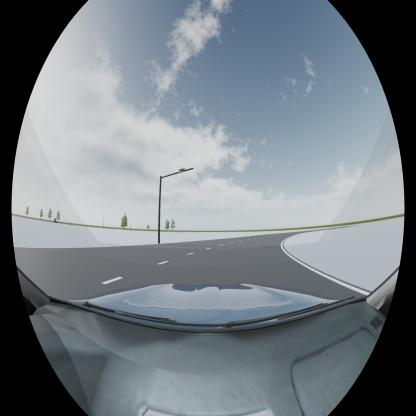Green Light: (178, 168, 186, 173)
